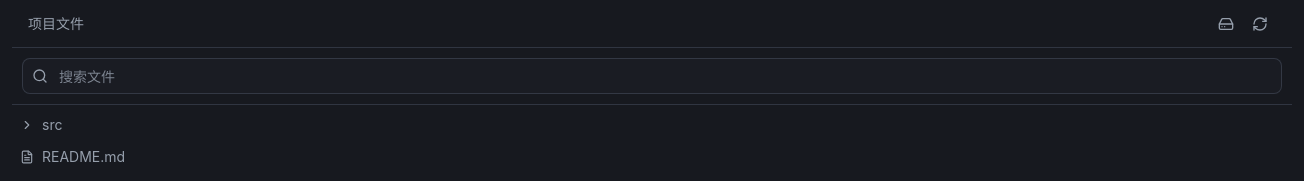
it: FileTree 按需大小统计 › 项目入口一次显示项目总大小和一级子项大小
Click the button named "查看项目及一级子项大小": (1226, 24) [1210, 8, 1242, 40]
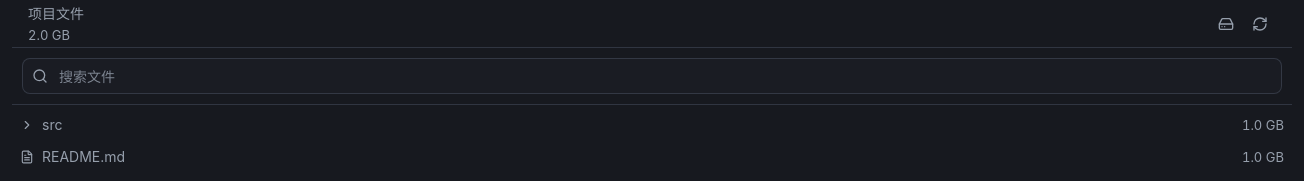
Check: the text "2.0 GB" is shown, box [28, 26, 70, 42]
